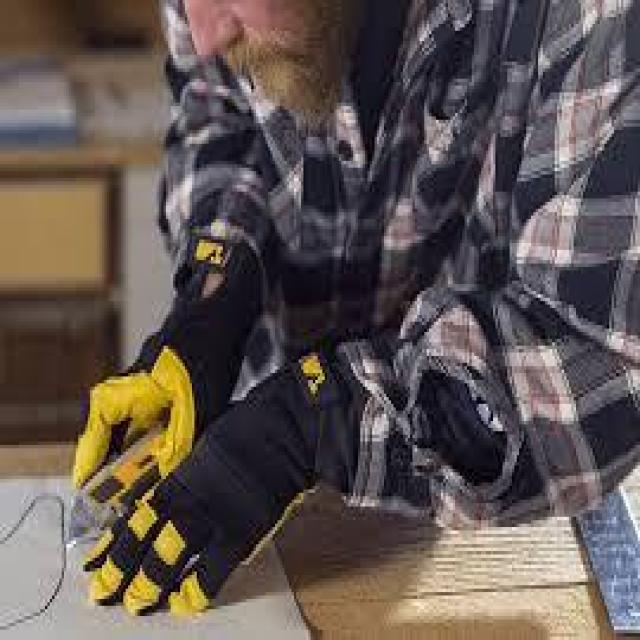Gloves: (68, 336, 358, 614), (68, 220, 264, 522)
Person: (71, 0, 640, 606)
